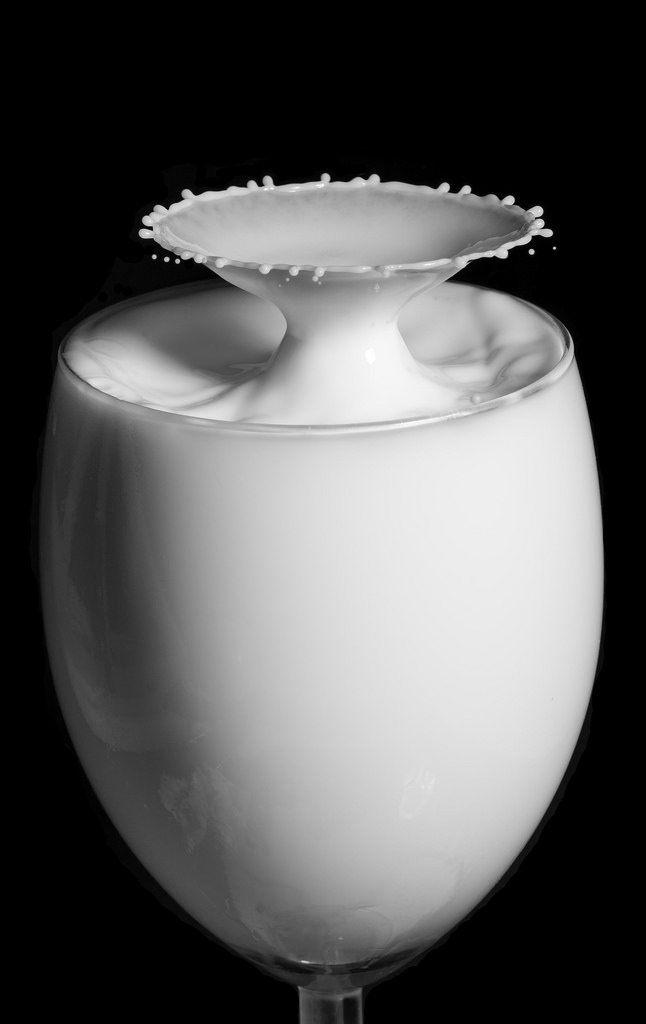glass of milk: (54, 302, 595, 1005)
